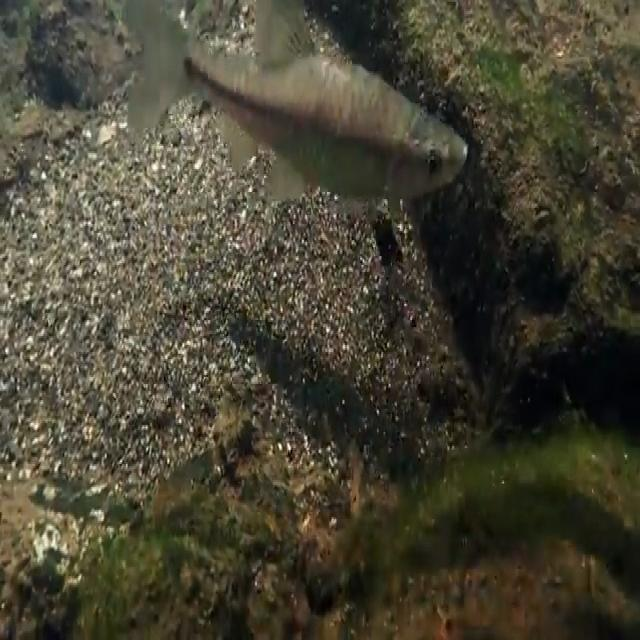Cakil Baligi: (120, 2, 470, 214)
